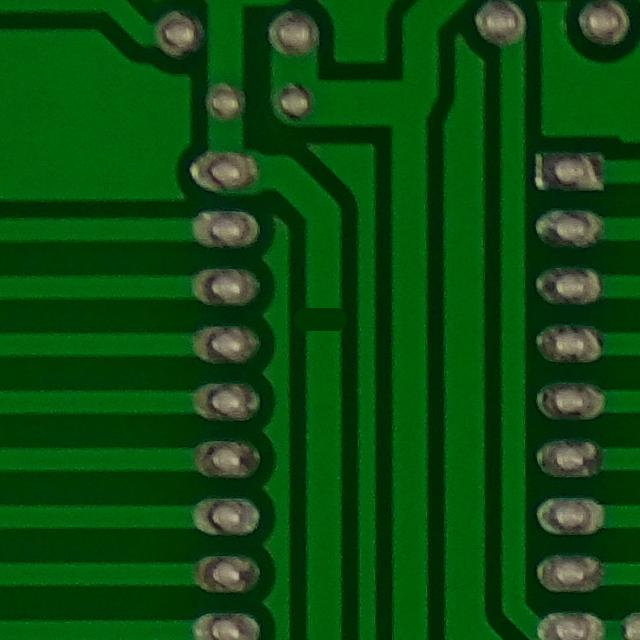open_circuit: (294, 298, 347, 342)
